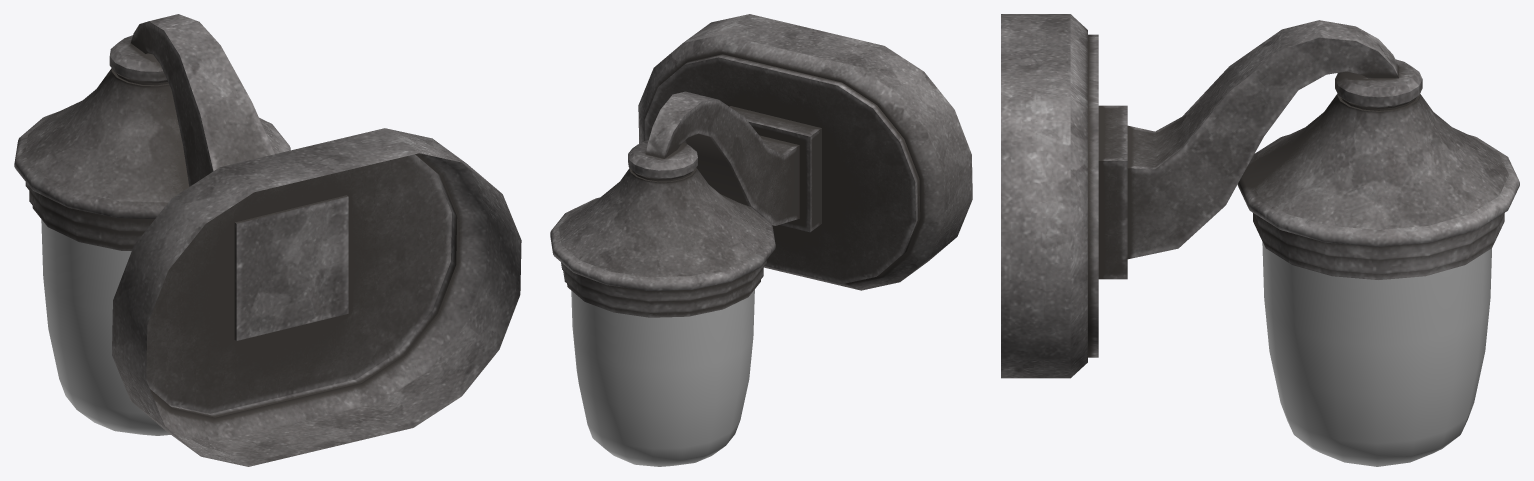
File: SM_Lighting_3.fbx
The picture shows the model from 3 angles, left to right: view 1: azimuth 30°, elevation 25°; view 2: azimuth 150°, elevation 25°; view 3: azimuth 270°, elevation 25°; orthographic projection. The views are drawn at different scales.
Parts seen in each view (by area): view 1: SM_Lighting_3; view 2: SM_Lighting_3; view 3: SM_Lighting_3.
Part boxes in pixels (left/top/right/bottom): SM_Lighting_3: left=14, top=14, right=521, bottom=466; SM_Lighting_3: left=550, top=14, right=972, bottom=466; SM_Lighting_3: left=1001, top=14, right=1519, bottom=466.
Size of the model in its own units: 18.12 by 21.43 by 19.18.
Materials: 1 (1 with a texture image).
